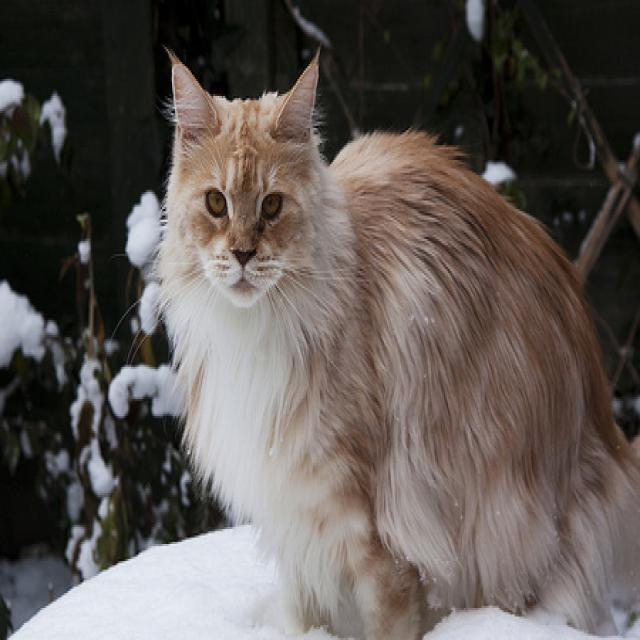Maine Coon: (155, 49, 640, 640)
